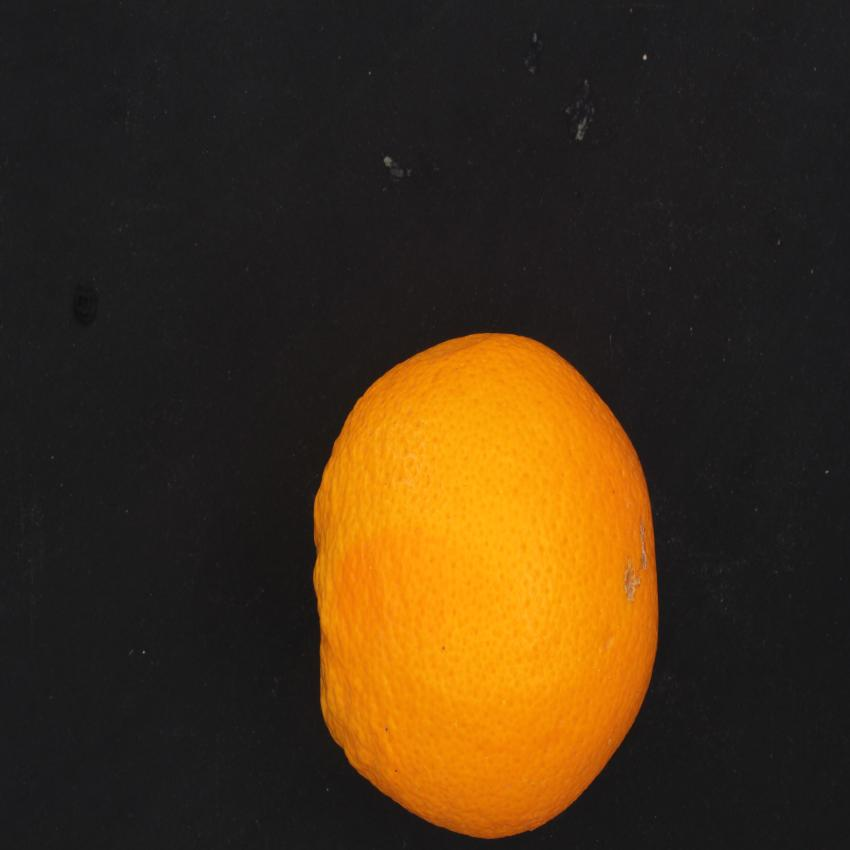Mal estado: (308, 317, 671, 846)
